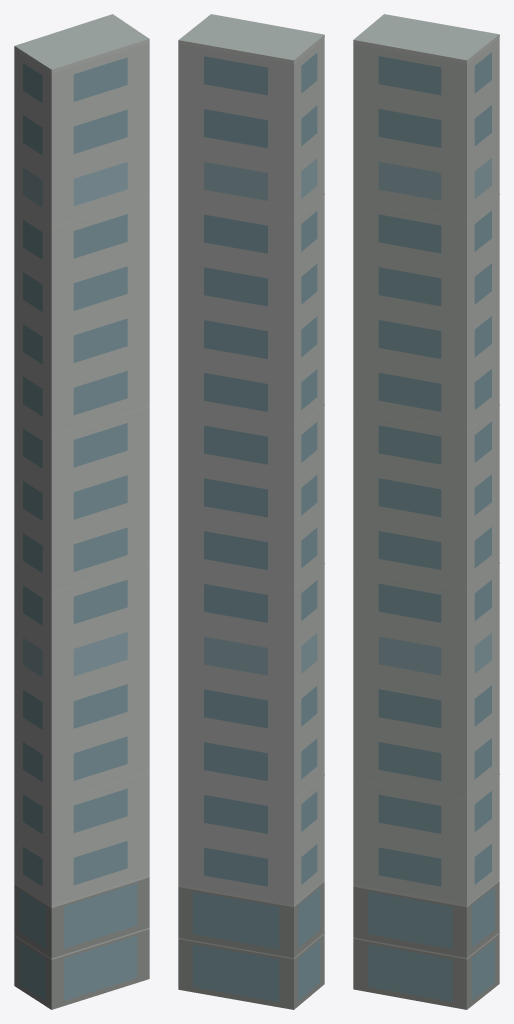
The model's file is survey-upis-32579063.glb.
The picture shows the model from 3 angles, left to right: view 1: azimuth 30°, elevation 25°; view 2: azimuth 150°, elevation 25°; view 3: azimuth 330°, elevation 25°; orthographic projection.
Visible parts, largest first — view 1: survey-upis-32579063.tmp; view 2: survey-upis-32579063.tmp; view 3: survey-upis-32579063.tmp.
Part boxes in pixels (x1,y1,x2,y2): survey-upis-32579063.tmp: [14, 14, 149, 1009]; survey-upis-32579063.tmp: [178, 14, 324, 1009]; survey-upis-32579063.tmp: [353, 14, 499, 1009].
Bounding box in the file's own units: 6.66 × 54.9 × 4.46.
